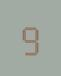nine: (19, 20, 40, 55)
